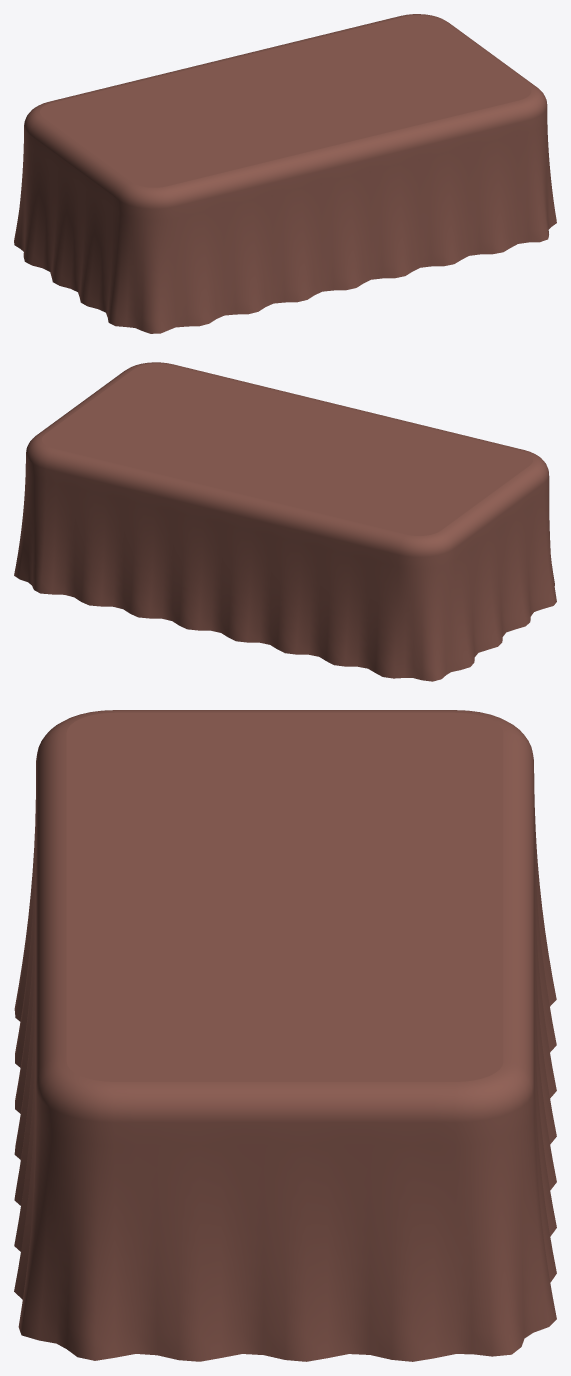
The picture shows the model from 3 angles, top to bottom: view 1: azimuth 30°, elevation 25°; view 2: azimuth 150°, elevation 25°; view 3: azimuth 270°, elevation 25°; orthographic projection. The views are drawn at different scales.
Visible parts, largest first — view 1: CLT_long_brick; view 2: CLT_long_brick; view 3: CLT_long_brick.
Part boxes in pixels (x1,y1,x2,y2): CLT_long_brick: (14, 14, 556, 333); CLT_long_brick: (14, 362, 556, 681); CLT_long_brick: (14, 710, 556, 1361).
Bounding box in the file's own units: 4.49 × 1.3 × 2.49.
